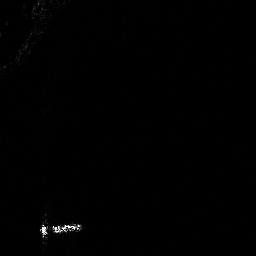ship: (37, 220, 85, 239)
